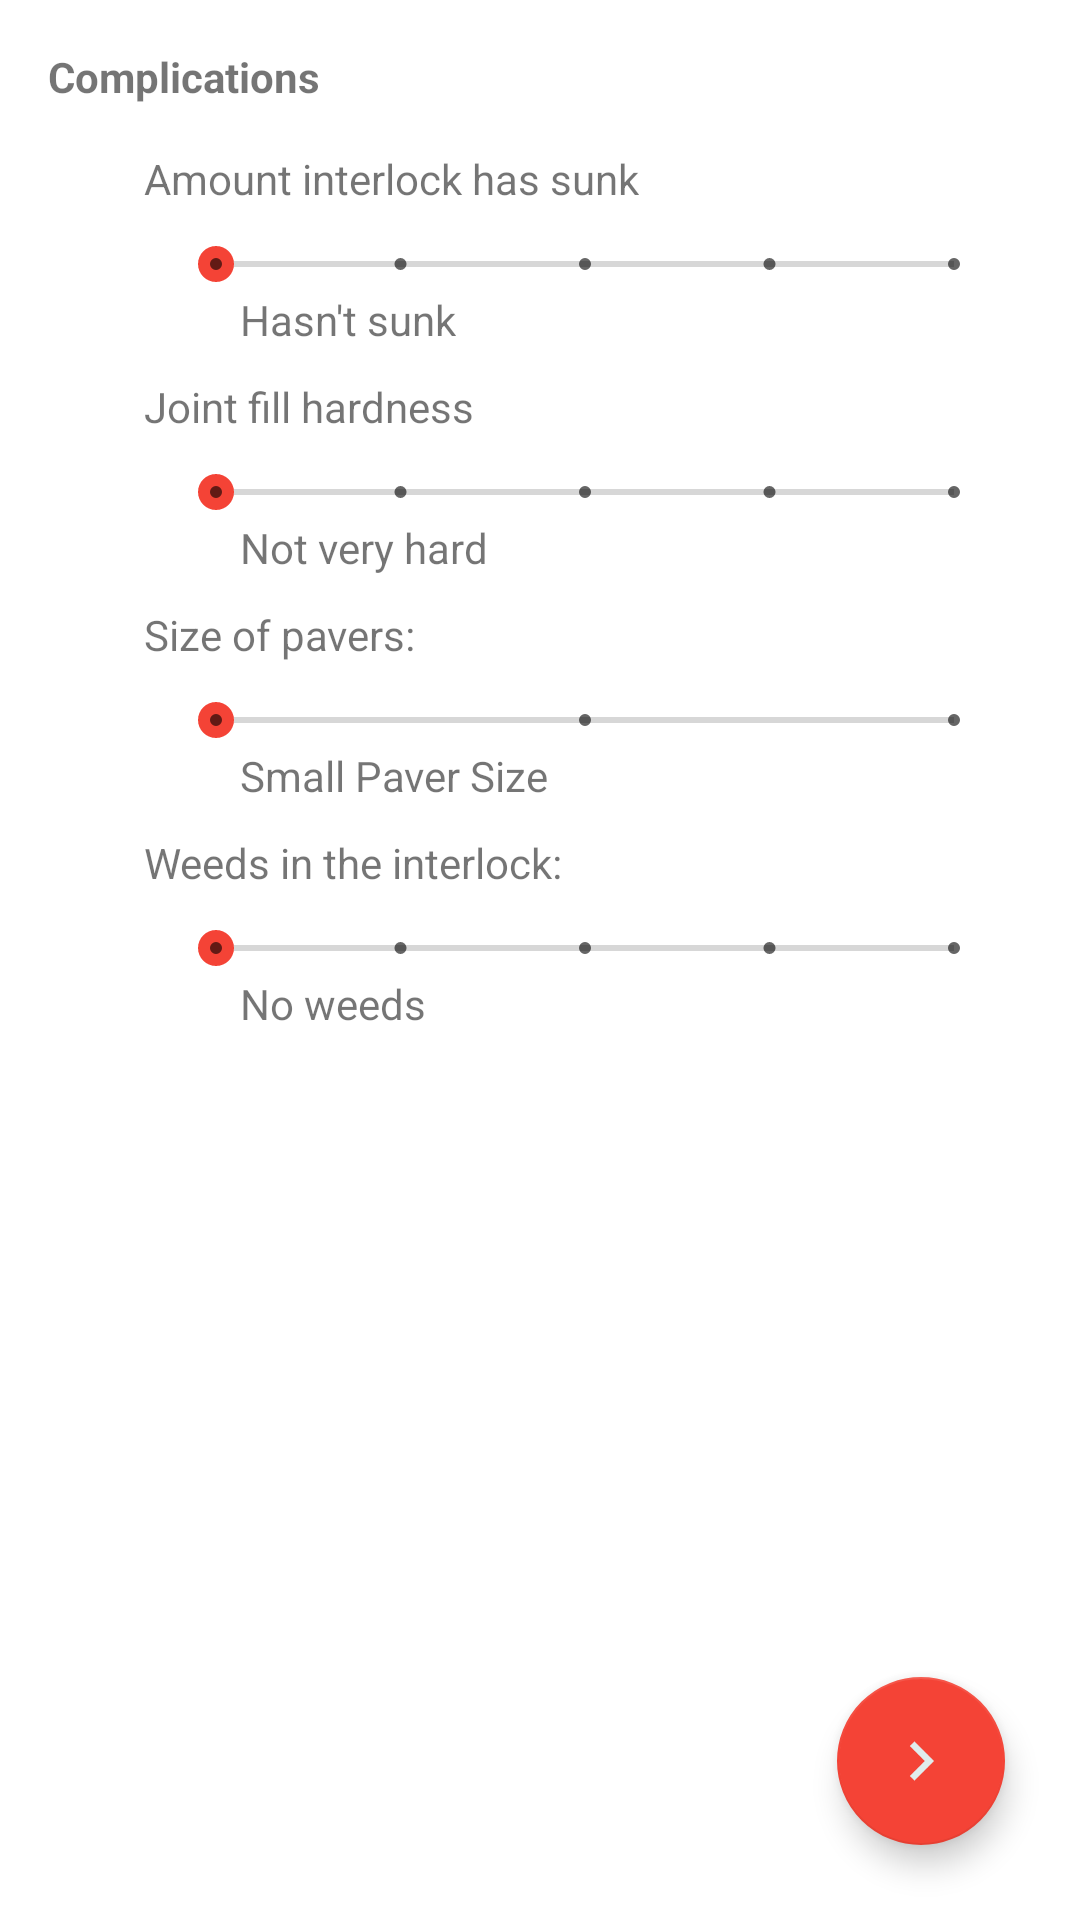

Icon bounding boxes for this 1080*1920 phone screenshot, format (x1, y1, x2, y2):
right arrow: (837, 1677, 1005, 1845)
